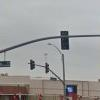Traffic light: (55, 26, 85, 68)
